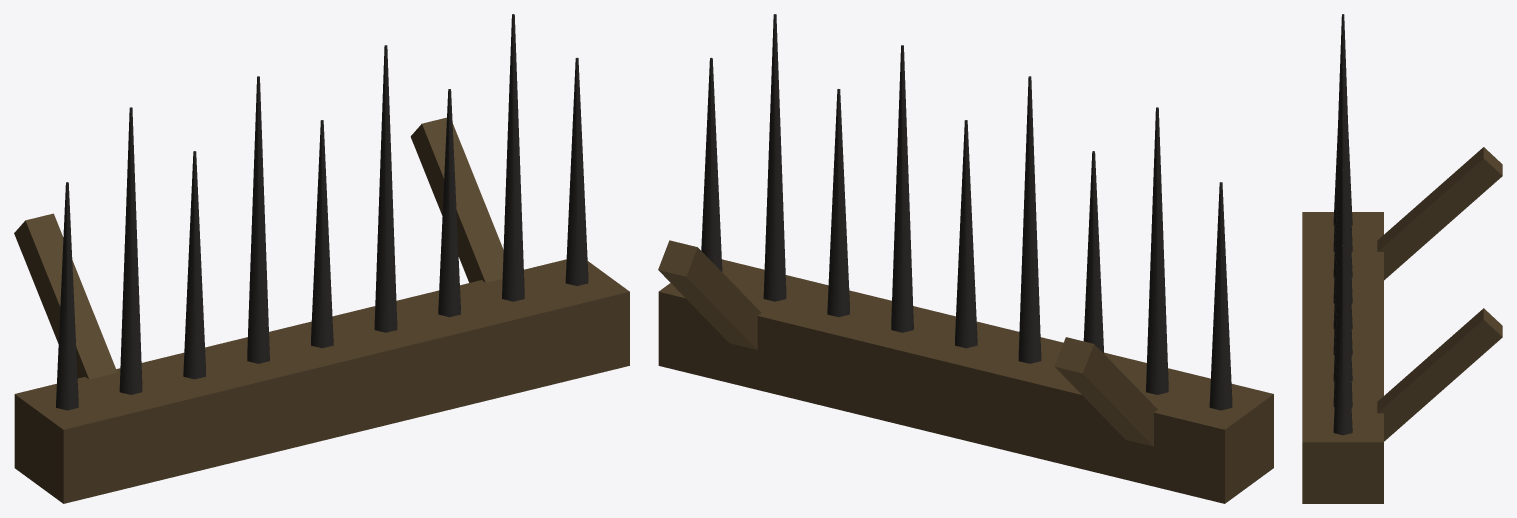
File: jt_spikes.glb
3 renders of one model, left to right at view 1: azimuth 30°, elevation 25°; view 2: azimuth 150°, elevation 25°; view 3: azimuth 270°, elevation 25°, orthographic. The views are drawn at different scales.
Visible parts, largest first — view 1: jt_spikes; view 2: jt_spikes; view 3: jt_spikes.
Boxes of the visible parts, bbox=[...] form: jt_spikes: bbox=[14, 14, 629, 503]; jt_spikes: bbox=[658, 14, 1273, 503]; jt_spikes: bbox=[1302, 14, 1502, 503].
Bounding box in the file's own units: 2 × 1.2 × 0.7359.
